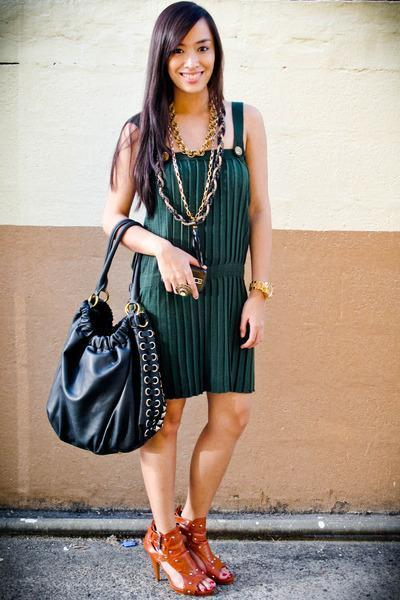bag: (46, 227, 166, 454)
dress: (140, 108, 254, 405)
shoe: (143, 523, 231, 585)
